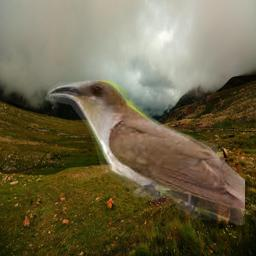Cuckoo: (45, 80, 245, 227)
